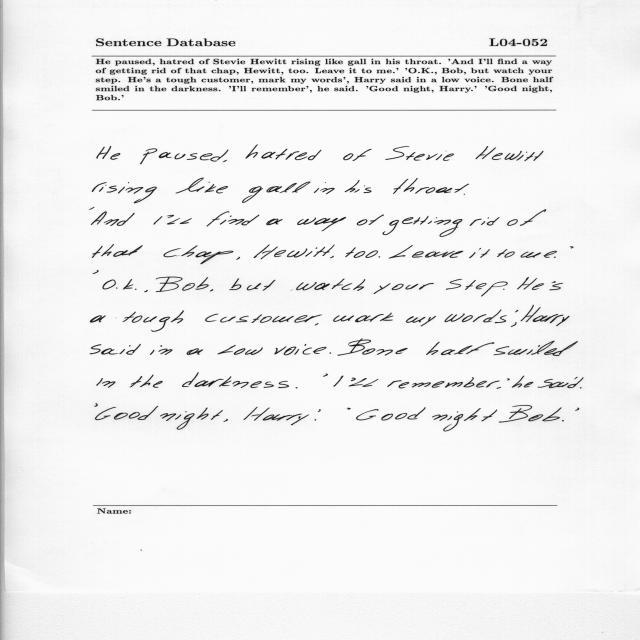word: (383, 216, 463, 237), (182, 373, 289, 388), (242, 182, 310, 203), (140, 149, 228, 165), (160, 408, 223, 430), (92, 182, 157, 203), (122, 310, 184, 332), (164, 246, 234, 265), (494, 341, 578, 356), (387, 378, 500, 389), (393, 178, 469, 194), (254, 245, 335, 260), (338, 339, 408, 356), (244, 407, 310, 425), (246, 145, 322, 160), (432, 408, 481, 431), (499, 405, 562, 422), (446, 279, 508, 296), (205, 314, 322, 323), (389, 245, 463, 259), (385, 146, 454, 161), (476, 146, 544, 161), (356, 407, 426, 421), (291, 279, 365, 291), (426, 342, 494, 355), (95, 406, 158, 420), (207, 211, 259, 227), (445, 310, 507, 323), (156, 277, 209, 292), (176, 178, 228, 193), (92, 244, 143, 258), (297, 217, 346, 231), (507, 209, 546, 226), (91, 211, 135, 226), (374, 283, 434, 294), (511, 305, 541, 327), (333, 313, 393, 323), (230, 278, 276, 291), (274, 344, 327, 355), (90, 344, 141, 355), (538, 377, 583, 388), (218, 345, 263, 355), (533, 314, 570, 326), (130, 375, 163, 388), (103, 279, 137, 290), (345, 247, 378, 258), (345, 180, 372, 193), (343, 149, 372, 161), (97, 146, 120, 160), (406, 316, 436, 326), (357, 215, 384, 226), (532, 281, 563, 290), (470, 217, 500, 226), (349, 378, 378, 387), (520, 251, 557, 258), (314, 182, 335, 194), (512, 376, 533, 388), (517, 277, 537, 289), (150, 345, 172, 355), (153, 215, 174, 225), (469, 248, 490, 258), (97, 378, 116, 388), (482, 410, 497, 422), (167, 218, 192, 225), (497, 249, 515, 258), (90, 315, 106, 323), (187, 348, 203, 355), (334, 376, 344, 387), (266, 219, 283, 225), (93, 270, 99, 274), (90, 207, 95, 210), (323, 374, 328, 377), (223, 419, 228, 422), (236, 257, 240, 260), (95, 403, 98, 407), (576, 408, 580, 411), (210, 289, 213, 292), (318, 409, 321, 412), (223, 160, 227, 162), (330, 256, 334, 258), (144, 290, 148, 292), (497, 387, 501, 389), (347, 408, 351, 410), (570, 247, 573, 249), (315, 323, 318, 325), (516, 310, 519, 312), (507, 379, 510, 381), (379, 256, 381, 258), (554, 256, 556, 258), (330, 352, 332, 354), (296, 387, 298, 389), (580, 387, 582, 389), (315, 419, 317, 421), (503, 289, 505, 290), (562, 420, 564, 421), (464, 194, 465, 195)
